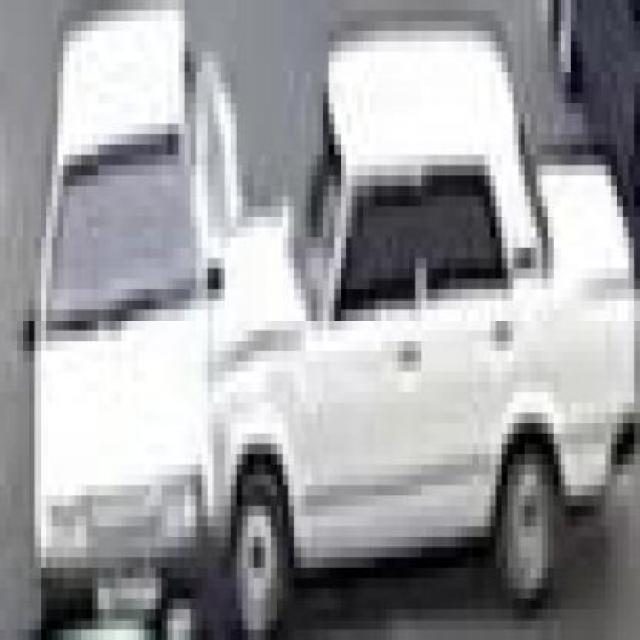accident: (0, 0, 606, 615)
